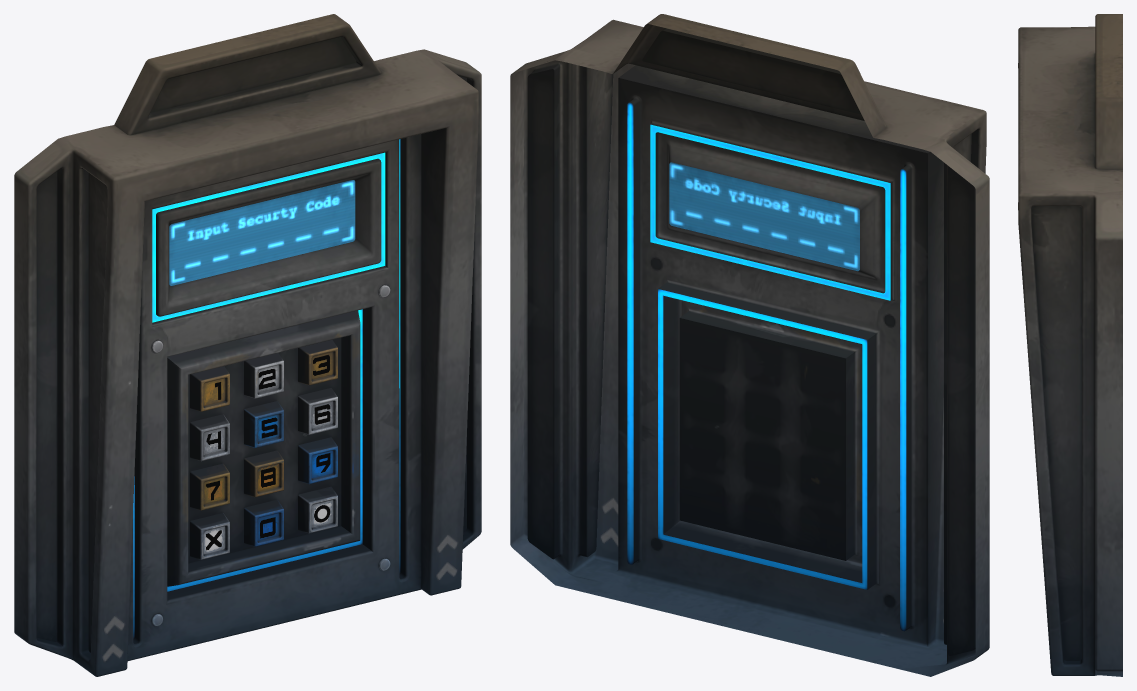
The model's file is KeyPad.fbx.
3 renders of one model, left to right at view 1: azimuth 30°, elevation 25°; view 2: azimuth 150°, elevation 25°; view 3: azimuth 270°, elevation 25°, orthographic. The views are drawn at different scales.
Parts seen in each view (by area): view 1: SM_Keypad_Body, SM_Keypad_Button_07, SM_Keypad_Button_08, SM_Keypad_Button_09, SM_Keypad_Button_K, SM_Keypad_Button_04, SM_Keypad_Button_05, SM_Keypad_Button_00, SM_Keypad_Button_06, SM_Keypad_Button_X, SM_Keypad_Button_01, SM_Keypad_Button_02 (+1 smaller); view 2: SM_Keypad_Body; view 3: SM_Keypad_Body.
Part boxes in pixels (x1,y1,x2,y2): SM_Keypad_Body: (14, 14, 481, 676); SM_Keypad_Button_07: (190, 463, 229, 510); SM_Keypad_Button_08: (244, 450, 283, 497); SM_Keypad_Button_09: (298, 437, 337, 484); SM_Keypad_Button_K: (298, 486, 337, 533); SM_Keypad_Button_04: (190, 414, 229, 461); SM_Keypad_Button_05: (244, 401, 283, 447); SM_Keypad_Button_00: (244, 500, 283, 546); SM_Keypad_Button_06: (298, 388, 337, 434); SM_Keypad_Button_X: (190, 513, 229, 559); SM_Keypad_Button_01: (190, 366, 229, 411); SM_Keypad_Button_02: (244, 353, 283, 398); SM_Keypad_Body: (510, 14, 989, 676); SM_Keypad_Body: (1018, 14, 1122, 676).
Bounding box in the file's own units: 19.35 × 23.2 × 4.11.
Materials: 1 (1 with a texture image).
